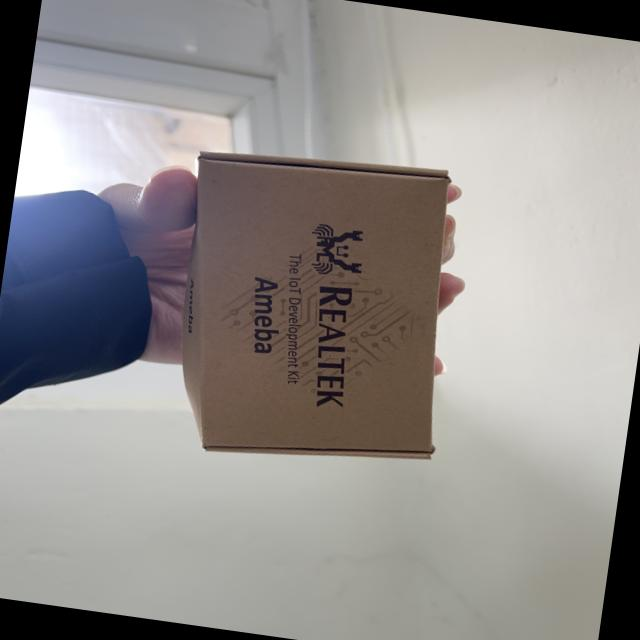box: (133, 129, 501, 516)
